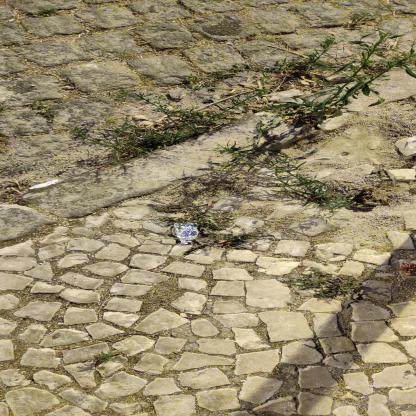plastik: (174, 223, 200, 245)
